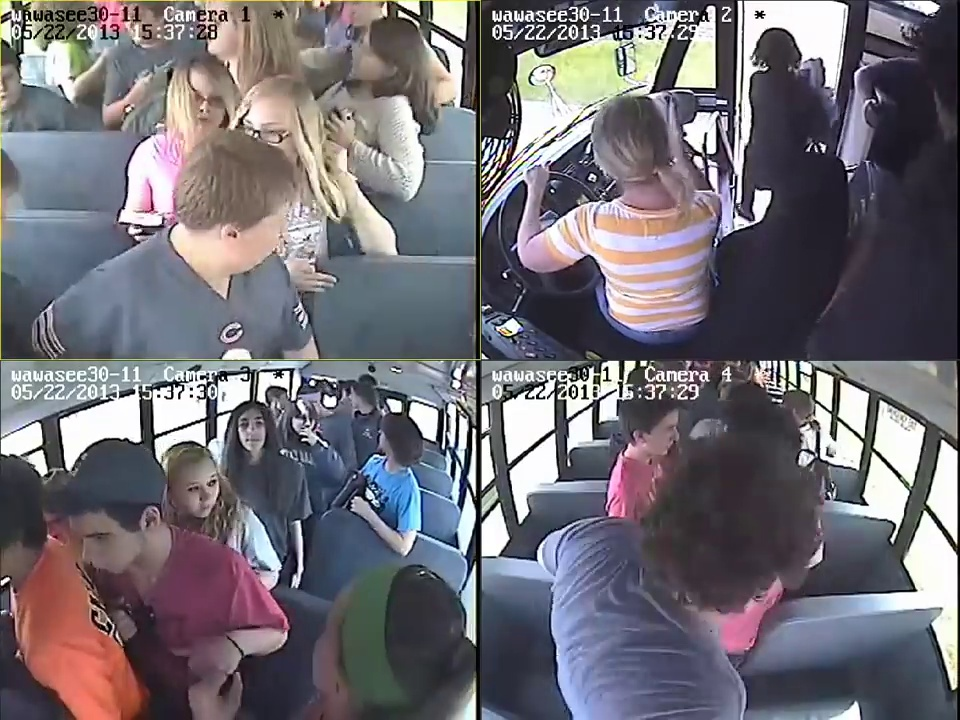face: (77, 497, 130, 580), (182, 79, 226, 129), (179, 464, 220, 517), (247, 101, 291, 140), (234, 406, 272, 450), (649, 404, 679, 454), (0, 58, 20, 110), (292, 406, 313, 440)
